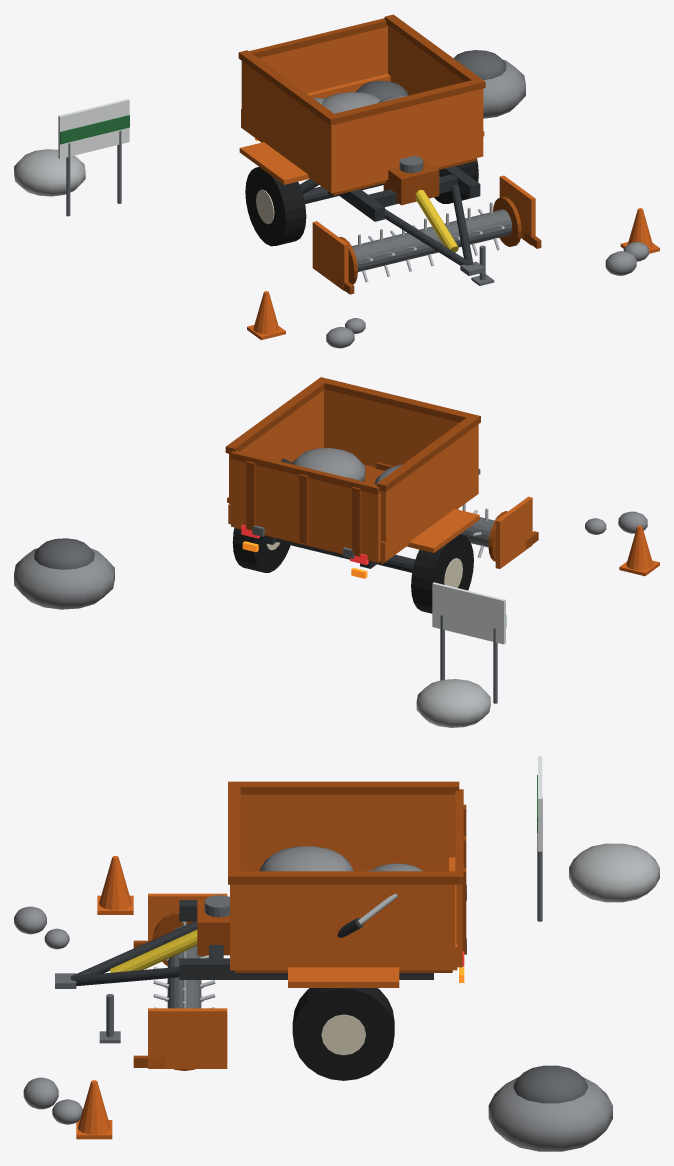
The model's file is stone_picker.glb.
3 views of the same model, one above another, from view 1: azimuth 30°, elevation 25°; view 2: azimuth 150°, elevation 25°; view 3: azimuth 270°, elevation 25° (orthographic). The views are drawn at different scales.
Visible parts, largest first — view 1: PickerBody, FieldProps, DumpGate, PickupReel; view 2: PickerBody, FieldProps, DumpGate, PickupReel; view 3: PickerBody, FieldProps, PickupReel, DumpGate.
Boxes of the visible parts, x1=… form: PickerBody: x1=238, y1=14, x2=541, y2=294; FieldProps: x1=14, y1=50, x2=659, y2=348; DumpGate: x1=249, y1=18, x2=387, y2=93; PickupReel: x1=339, y1=197, x2=521, y2=284; PickerBody: x1=225, y1=377, x2=538, y2=613; FieldProps: x1=14, y1=511, x2=659, y2=727; DumpGate: x1=230, y1=450, x2=381, y2=562; PickupReel: x1=460, y1=503, x2=507, y2=561; PickerBody: x1=55, y1=781, x2=464, y2=1080; FieldProps: x1=14, y1=756, x2=659, y2=1151; PickupReel: x1=152, y1=911, x2=215, y2=1070; DumpGate: x1=455, y1=789, x2=466, y2=967.
Size of the model in its own units: 6.49 by 2 by 6.08.
